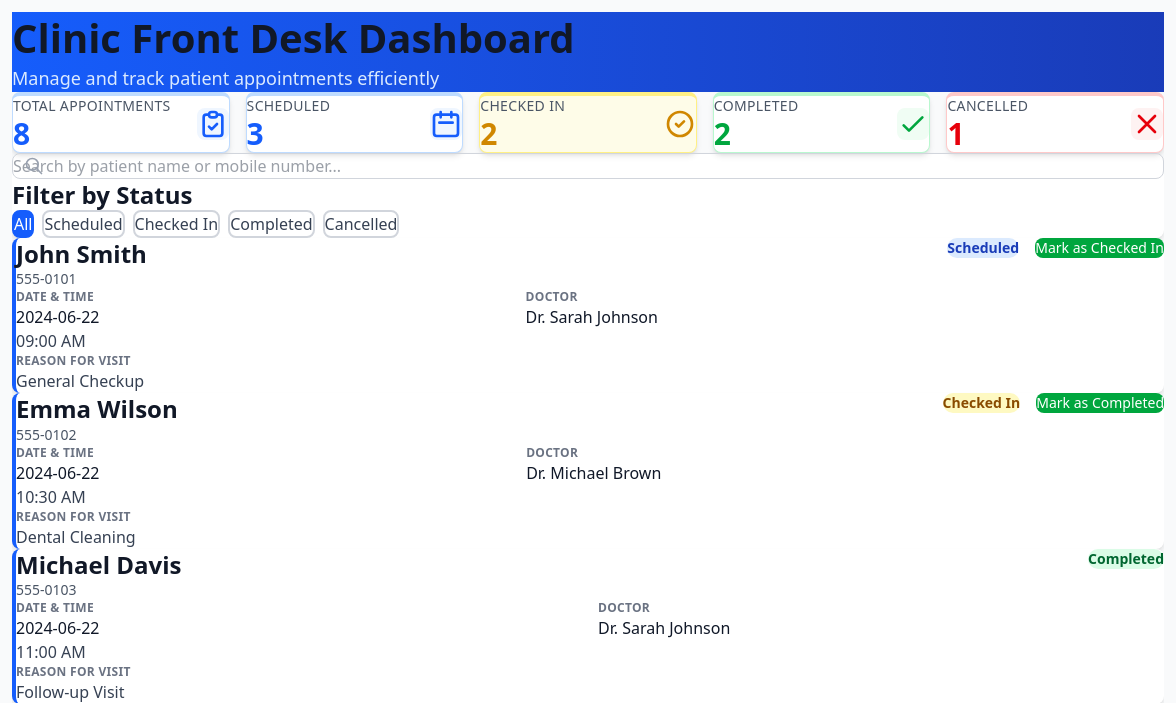
Test: Dashboard page › shows empty state when search has no match (negative case)
Type "No Match 12345" into the field with placeholder "Search by patient name or mobile number..." at (588, 166), box [12,153,1164,179]
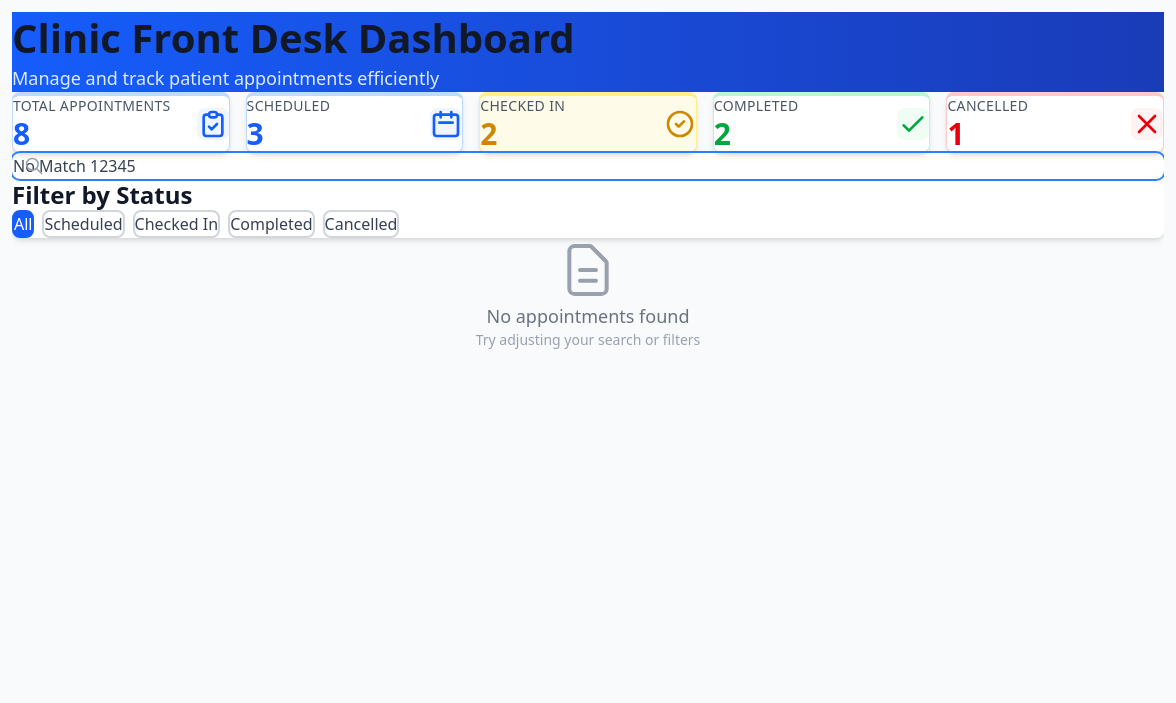
Expected: the text "No appointments found" is shown, [486,302,690,330]
